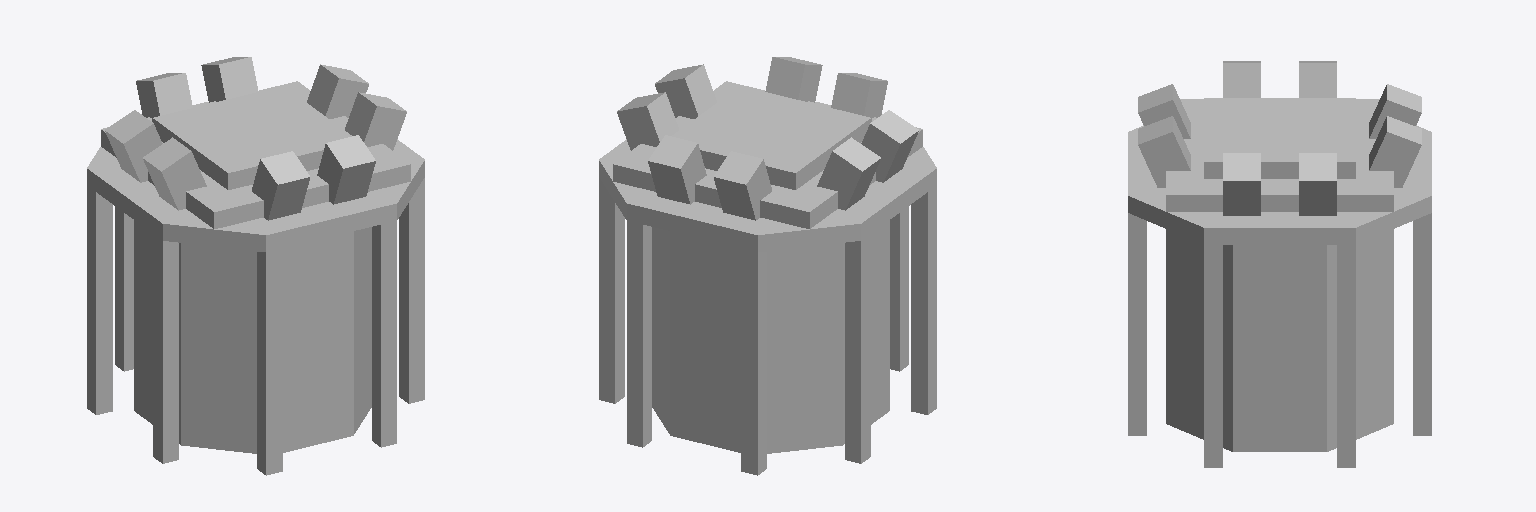
File: reactor_cell_top.obj
3 renders of one model, left to right at view 1: azimuth 30°, elevation 25°; view 2: azimuth 150°, elevation 25°; view 3: azimuth 270°, elevation 25°, orthographic.
Parts seen in each view (by area): view 1: cube; view 2: cube; view 3: cube.
Part boxes in pixels (x1,y1,x2,y2): cube: (87, 57, 424, 475); cube: (599, 57, 936, 475); cube: (1128, 61, 1431, 467).
Bounding box in the file's own units: 16 × 17.27 × 16.